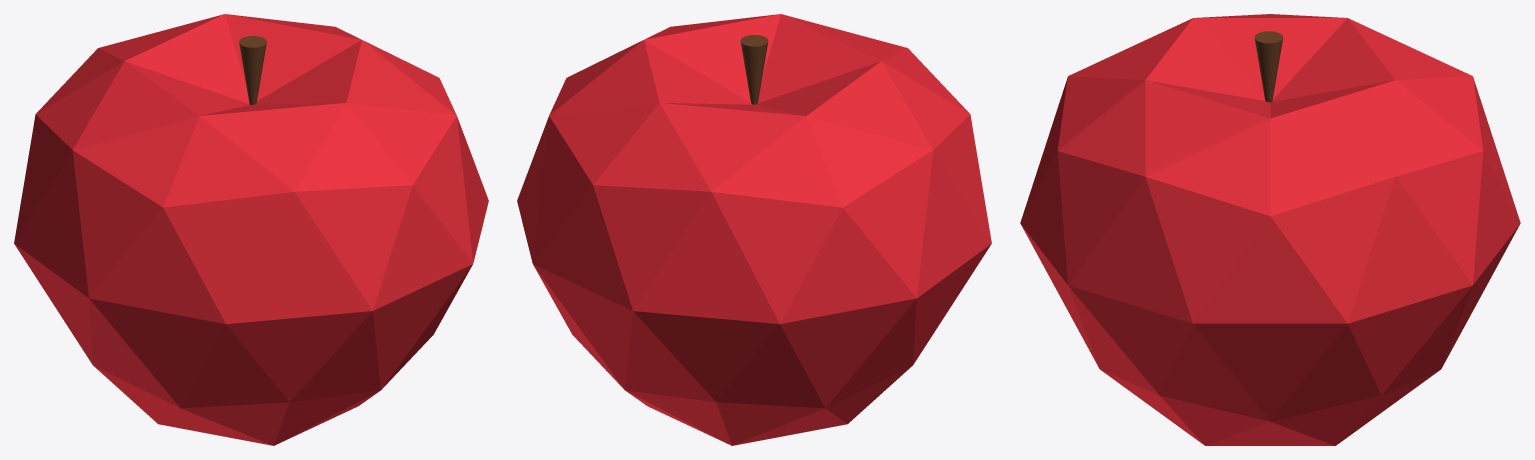
File: AppleRed.fbx
The picture shows the model from 3 angles, left to right: view 1: azimuth 30°, elevation 25°; view 2: azimuth 150°, elevation 25°; view 3: azimuth 270°, elevation 25°; orthographic projection. The views are drawn at different scales.
Visible parts, largest first — view 1: Icosphere, Cone; view 2: Icosphere, Cone; view 3: Icosphere, Cone.
Part boxes in pixels (left/top/right/bottom): Icosphere: left=14, top=14, right=488, bottom=445; Cone: left=239, top=36, right=266, bottom=104; Icosphere: left=517, top=14, right=991, bottom=445; Cone: left=740, top=35, right=768, bottom=104; Icosphere: left=1020, top=14, right=1520, bottom=445; Cone: left=1254, top=31, right=1283, bottom=102.
Size of the model in its own units: 12.98 by 11.16 by 13.65.
